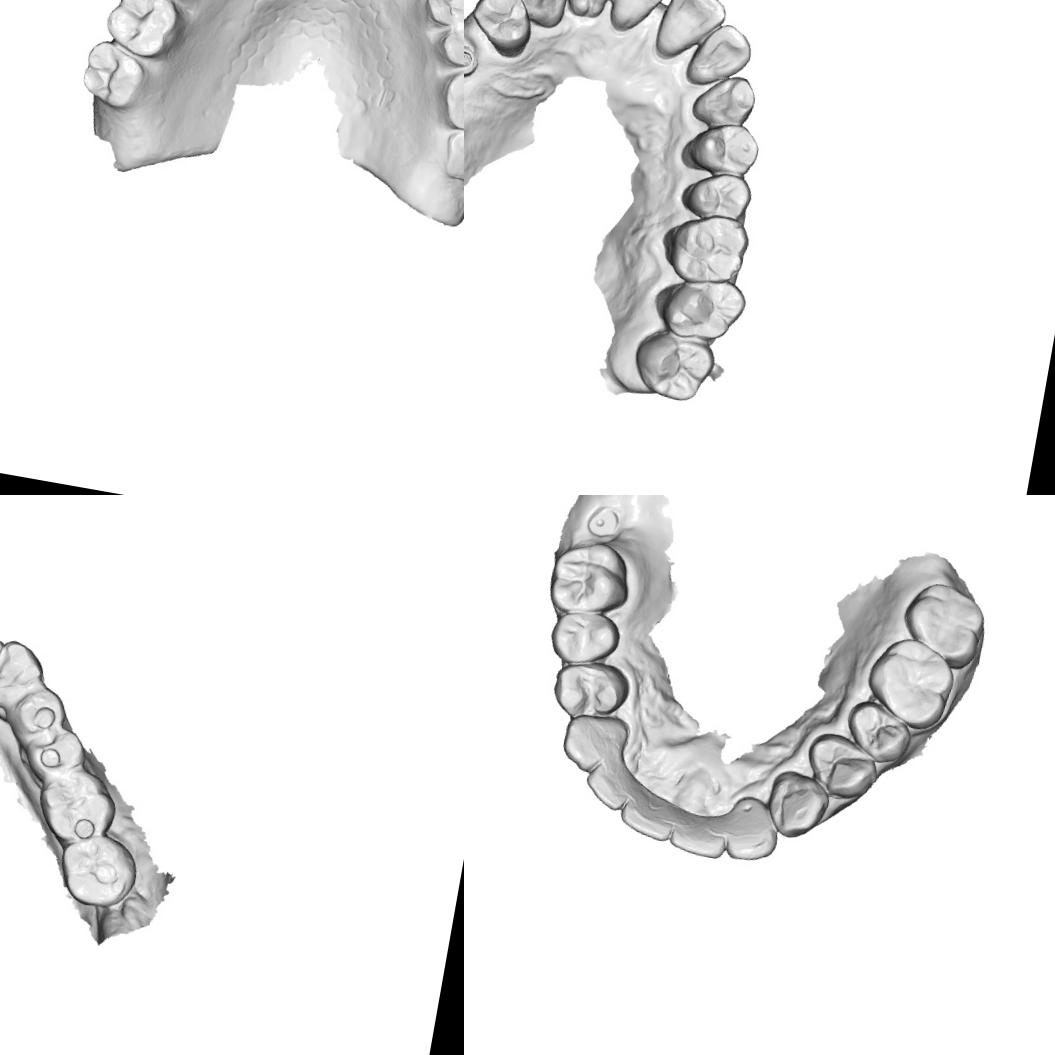canine: (556, 705, 638, 782), (761, 766, 835, 846), (688, 68, 762, 134), (0, 633, 49, 711), (512, 0, 572, 31)
implant: (582, 500, 622, 542), (464, 39, 482, 81)
incisor: (681, 15, 758, 98), (651, 0, 731, 69), (578, 747, 648, 817), (614, 779, 686, 845), (717, 797, 784, 867), (664, 802, 736, 864), (604, 0, 680, 42), (557, 0, 619, 22)
molar: (862, 634, 958, 732), (897, 576, 992, 668), (654, 204, 753, 292), (541, 534, 637, 622), (50, 830, 146, 916), (650, 267, 750, 347), (30, 764, 121, 850), (627, 325, 719, 407), (74, 37, 154, 114), (98, 0, 191, 65), (434, 55, 464, 142), (431, 117, 464, 194)
premolar: (797, 725, 888, 805), (546, 653, 639, 728), (838, 693, 920, 770), (545, 604, 624, 670), (681, 116, 762, 180), (677, 165, 756, 226), (19, 718, 92, 784), (5, 679, 70, 751), (464, 0, 538, 61), (429, 10, 464, 79), (417, 0, 464, 36)
